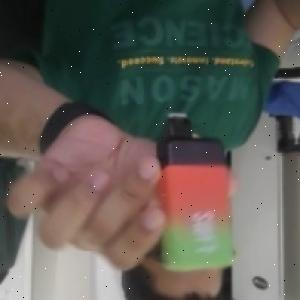Swift-E-Ciggirate: (155, 110, 236, 284)
